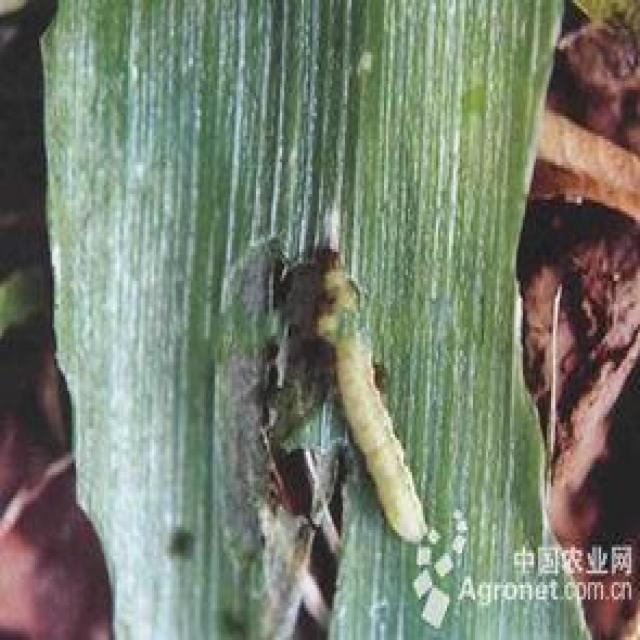BeetArmyWorm-Larva-: (324, 281, 434, 558)
